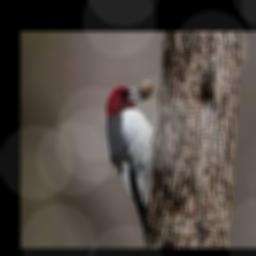Woodpecker: (106, 80, 157, 245)
